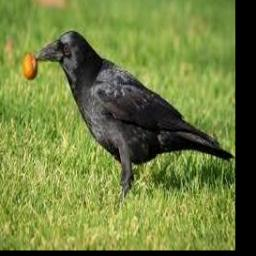Crow: (35, 29, 234, 197)
